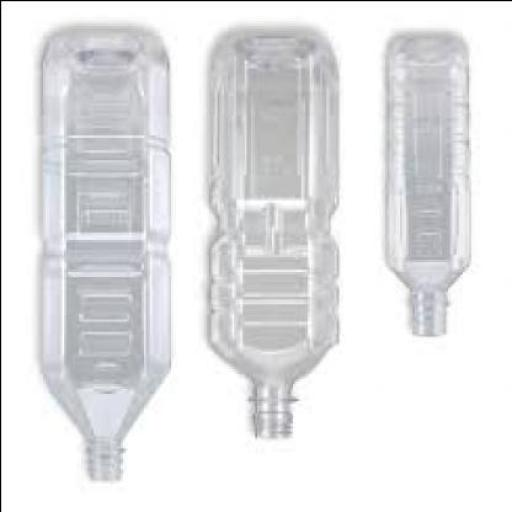plastic: (40, 25, 172, 485), (208, 33, 342, 440), (384, 32, 470, 338)
